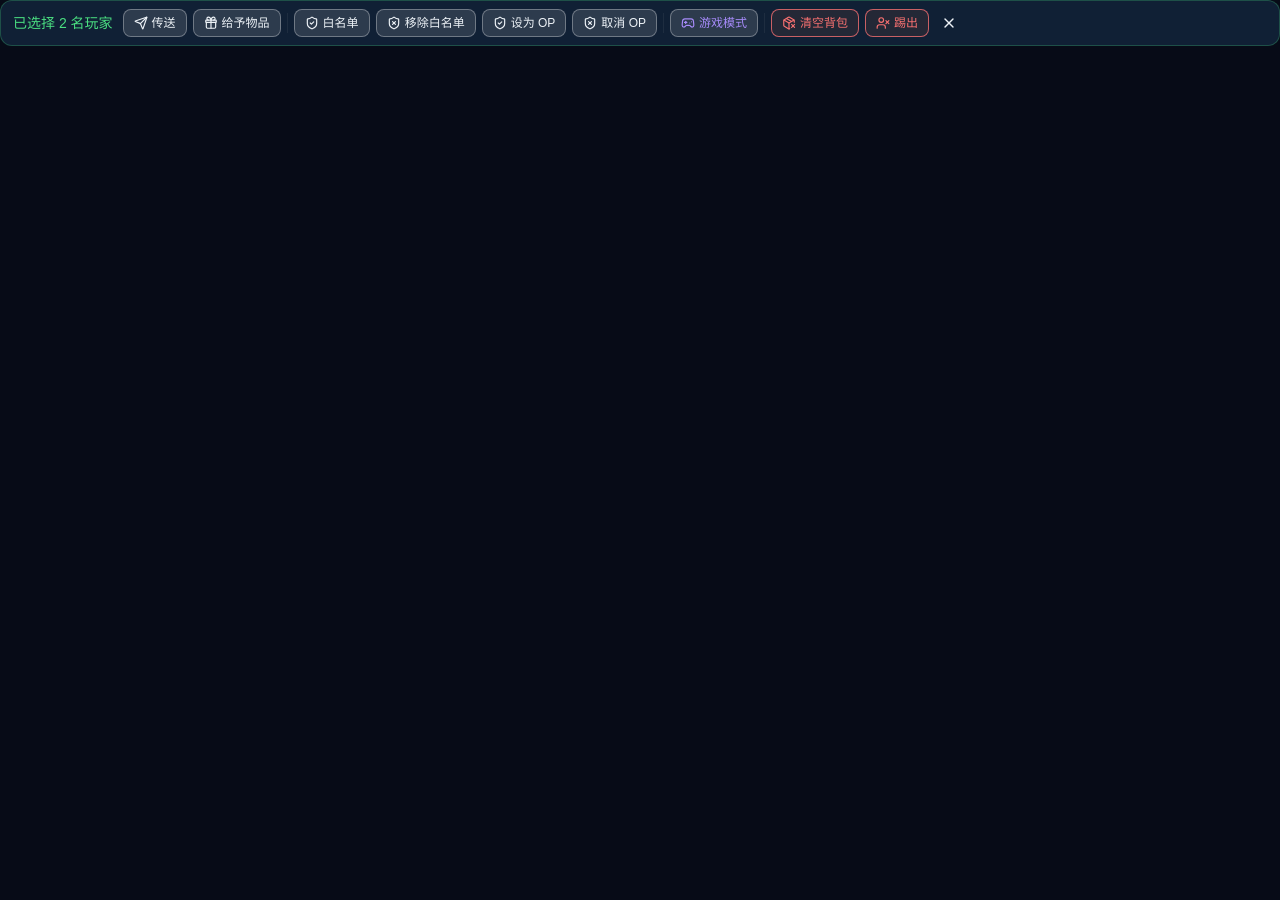
Test: BatchBar › 游戏模式多目标含离线：在线执行、离线跳过并汇总
Click the button "游戏模式" at (714, 23), box [670, 9, 758, 37]
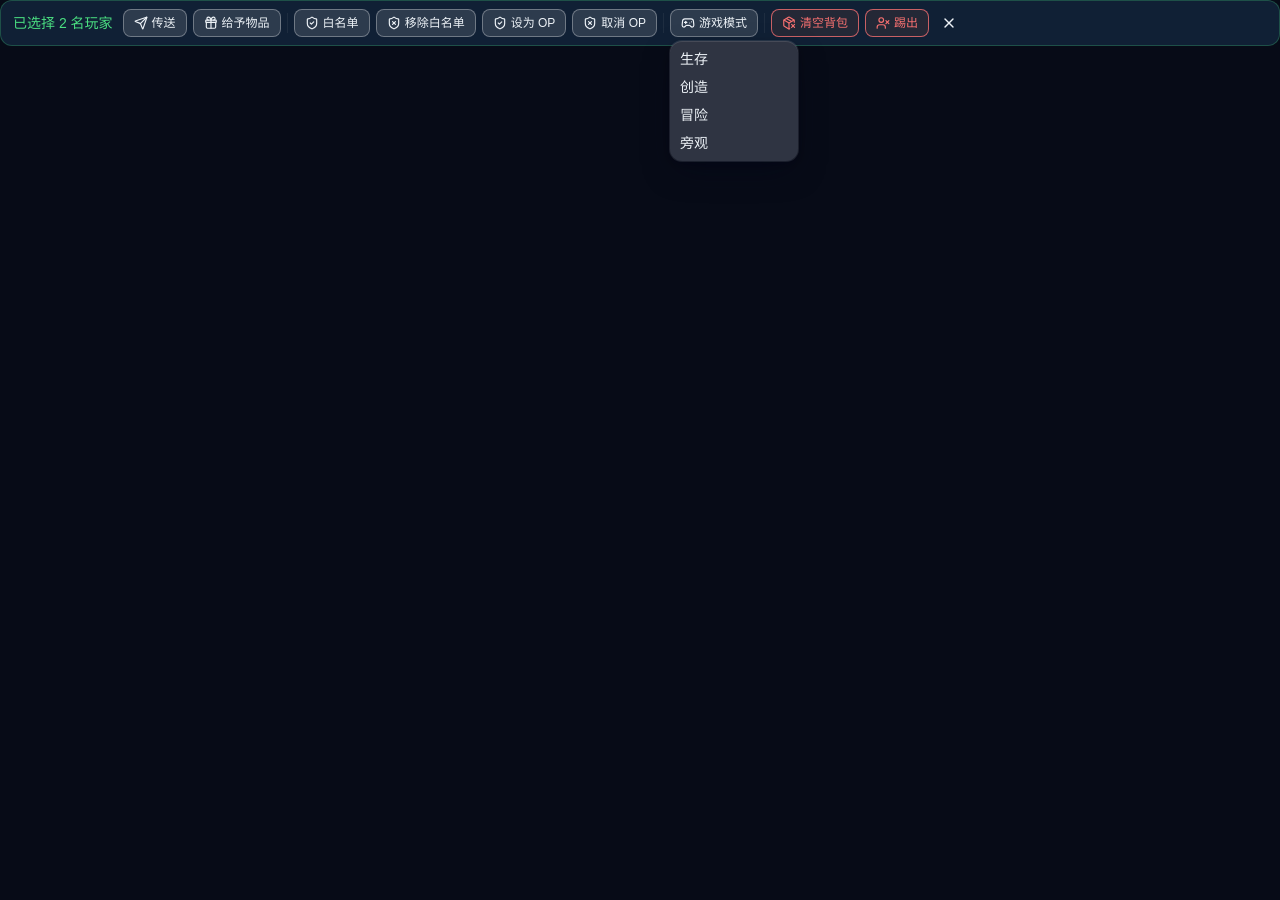
Click the menu item "生存" at (694, 59), box [680, 51, 708, 67]
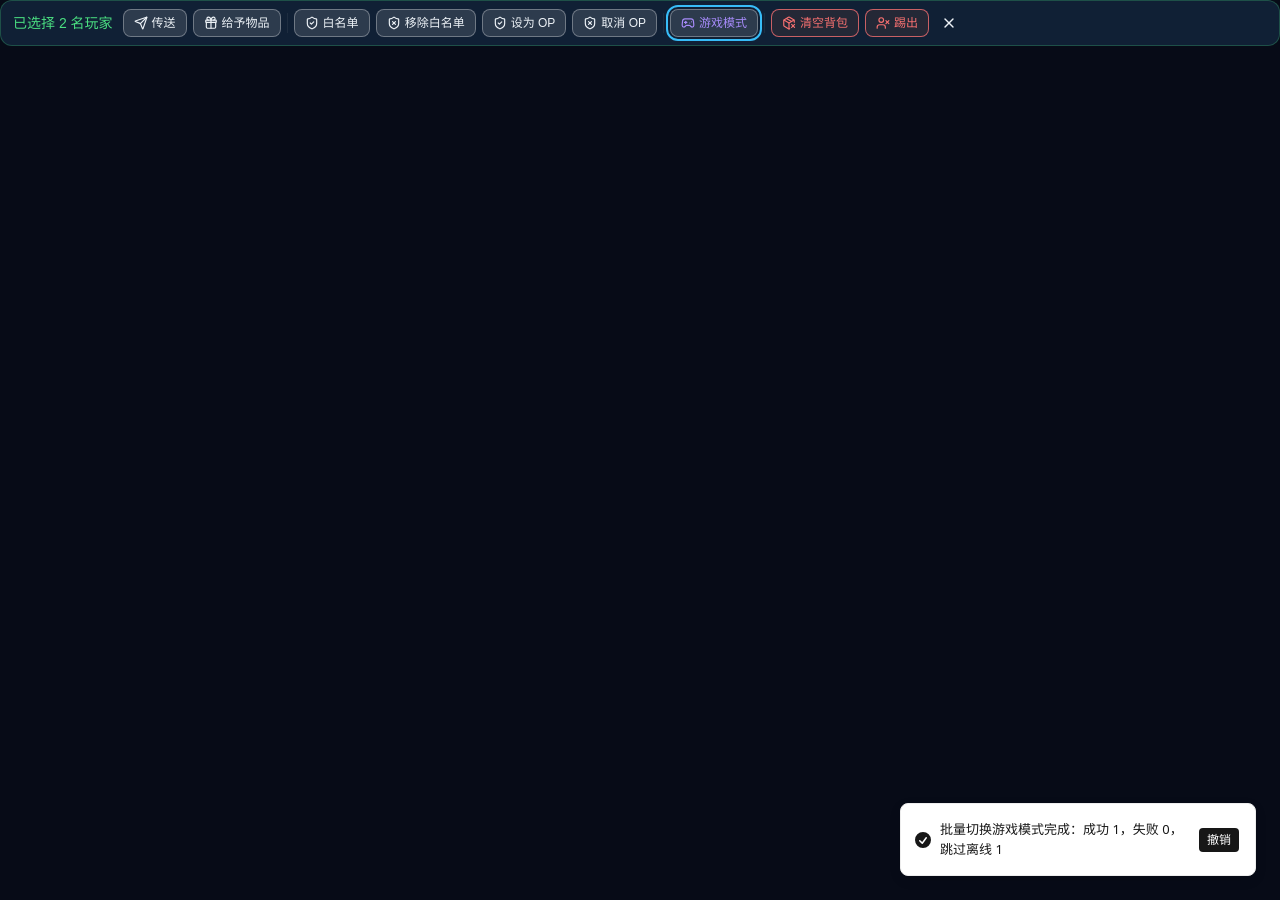
Check: the text "批量切换游戏模式完成：成功 1，失败 0，跳过离线 1" is shown, box [940, 820, 1193, 859]
